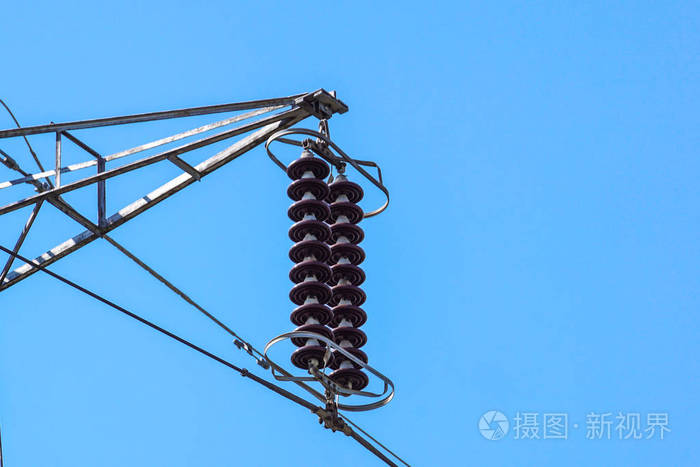insulator: (283, 156, 331, 369), (331, 180, 370, 393)
